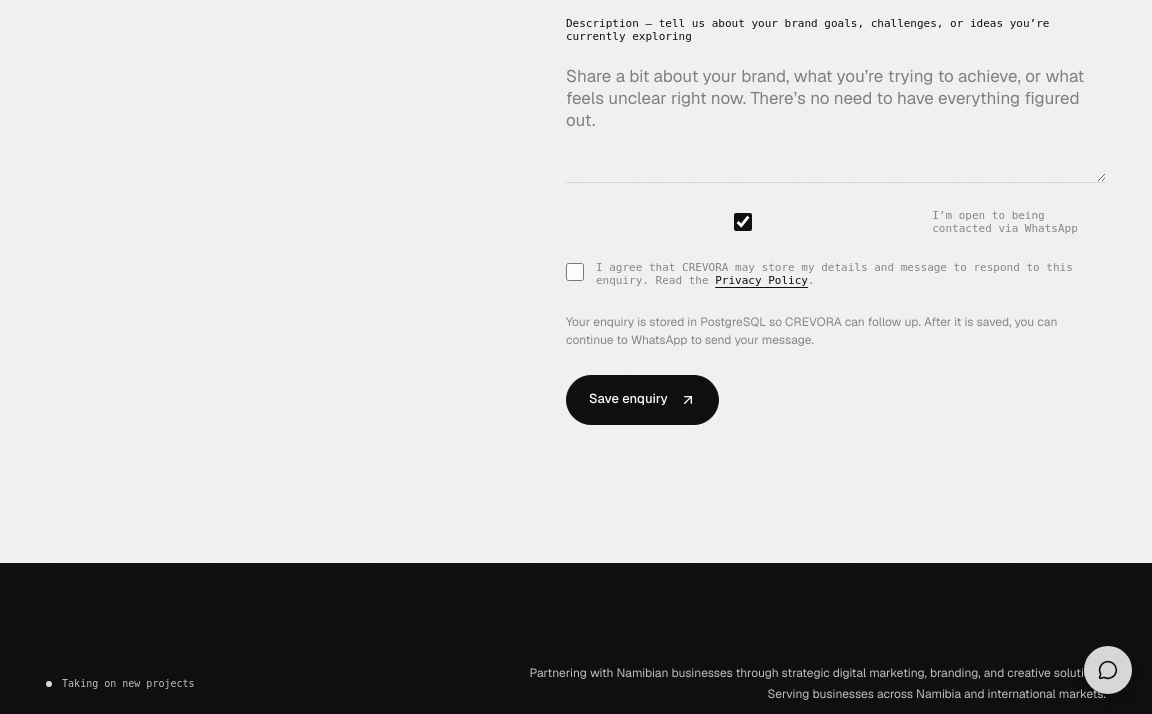
public navigation and contact form › validates required fields and privacy consent before sending
(page scrolled)
Click the button "Save enquiry".
click(642, 400)  # box [566,374,719,424]
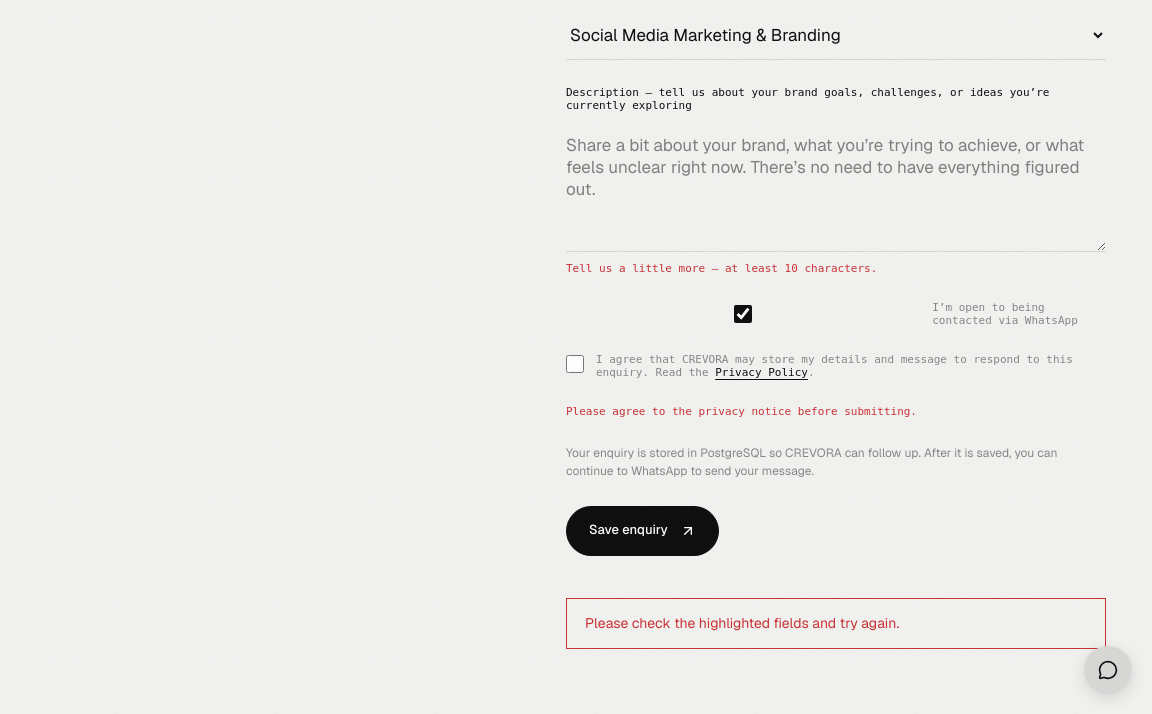
Result: the text "Please check the highlighted fields and try again." is shown at [566,598,1106,648]
